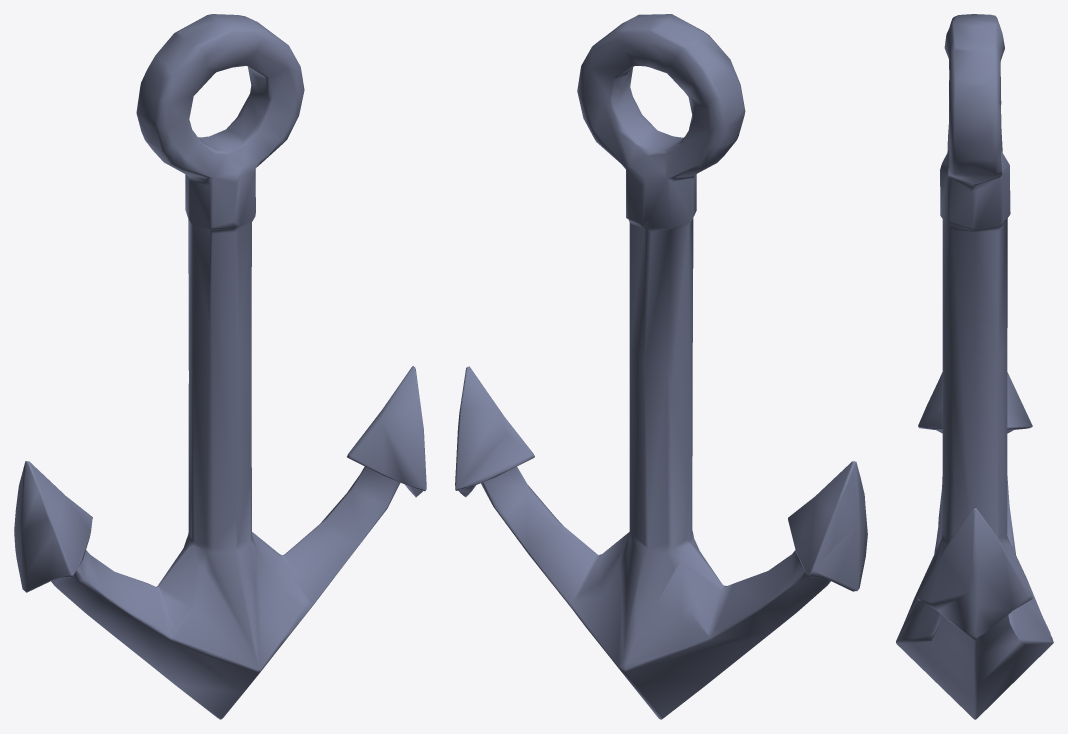
File: gen3d-anchor-lod1.glb
The picture shows the model from 3 angles, left to right: view 1: azimuth 30°, elevation 25°; view 2: azimuth 150°, elevation 25°; view 3: azimuth 270°, elevation 25°; orthographic projection.
Parts seen in each view (by area): view 1: part_0; view 2: part_0; view 3: part_0.
Part boxes in pixels (left/top/right/bottom): part_0: left=14, top=14, right=426, bottom=719; part_0: left=455, top=14, right=867, bottom=719; part_0: left=896, top=14, right=1053, bottom=719.
Bounding box in the file's own units: 0.5945 × 0.9985 × 0.2046.
